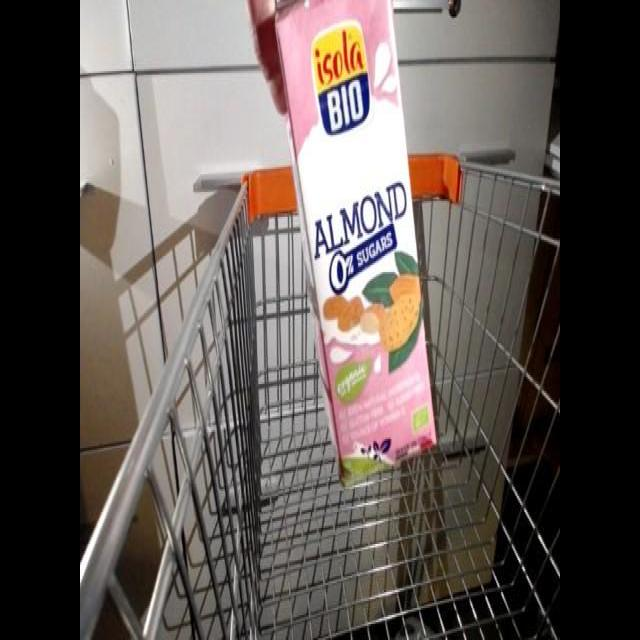Almond Milk: (270, 1, 444, 493)
